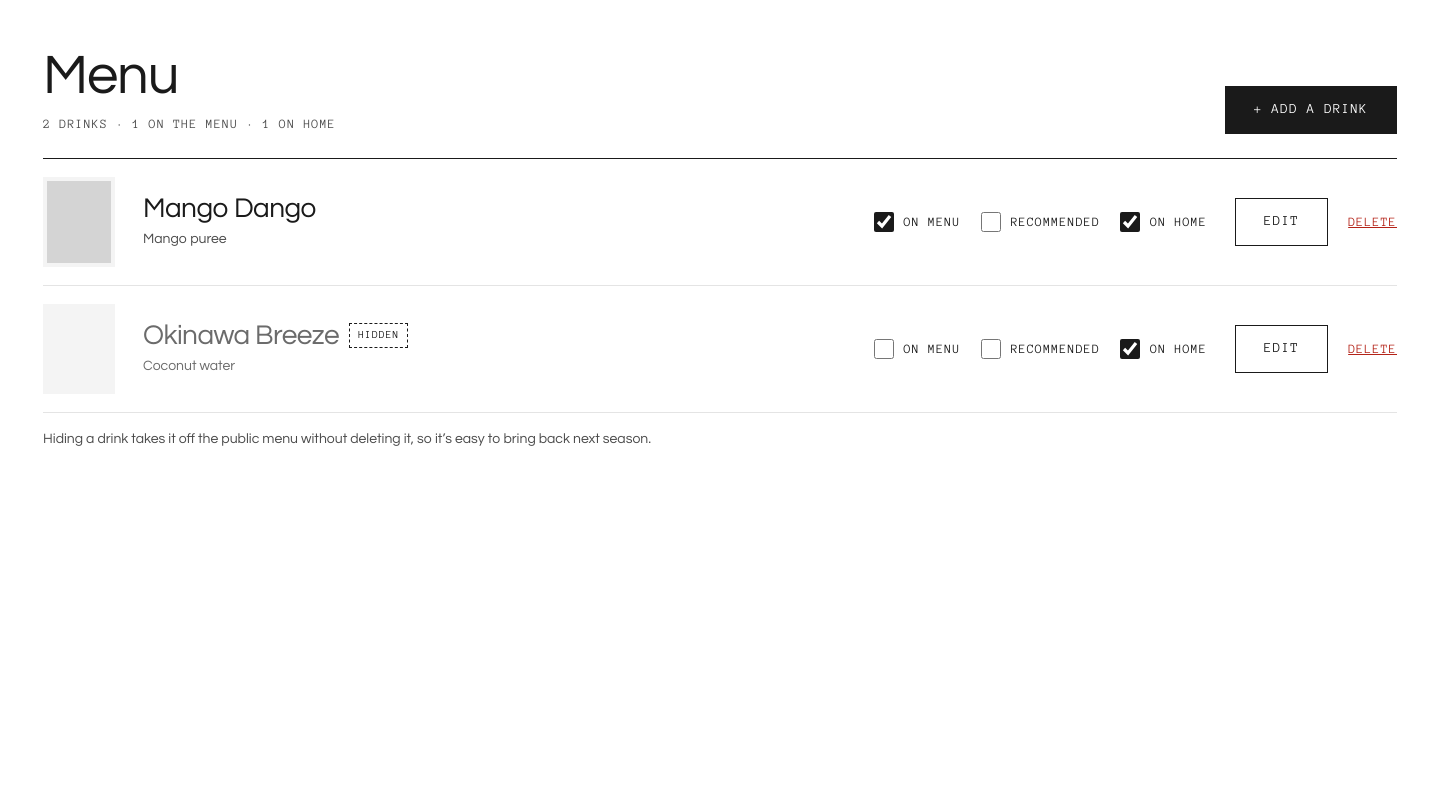
Test: Hide instead hides the drink and is not offered for hidden drinks
This screenshot has width=1440, height=810.
Click the button named "Delete Okinawa Breeze": [1373, 348] box [1348,326,1397,370]
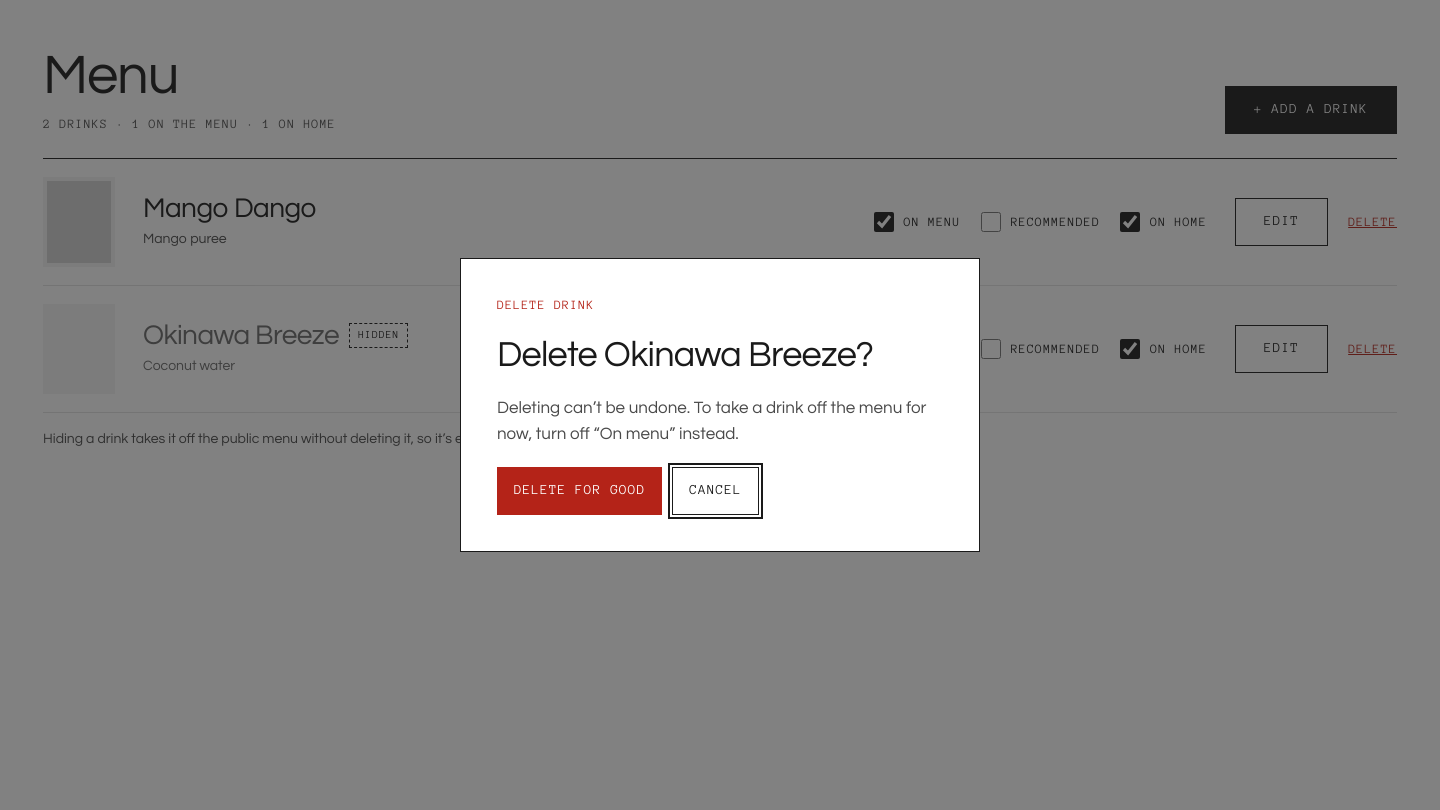
Expected: the button "Hide instead" is not shown
Click the button "Cancel": [716, 491] box [672,467,759,515]
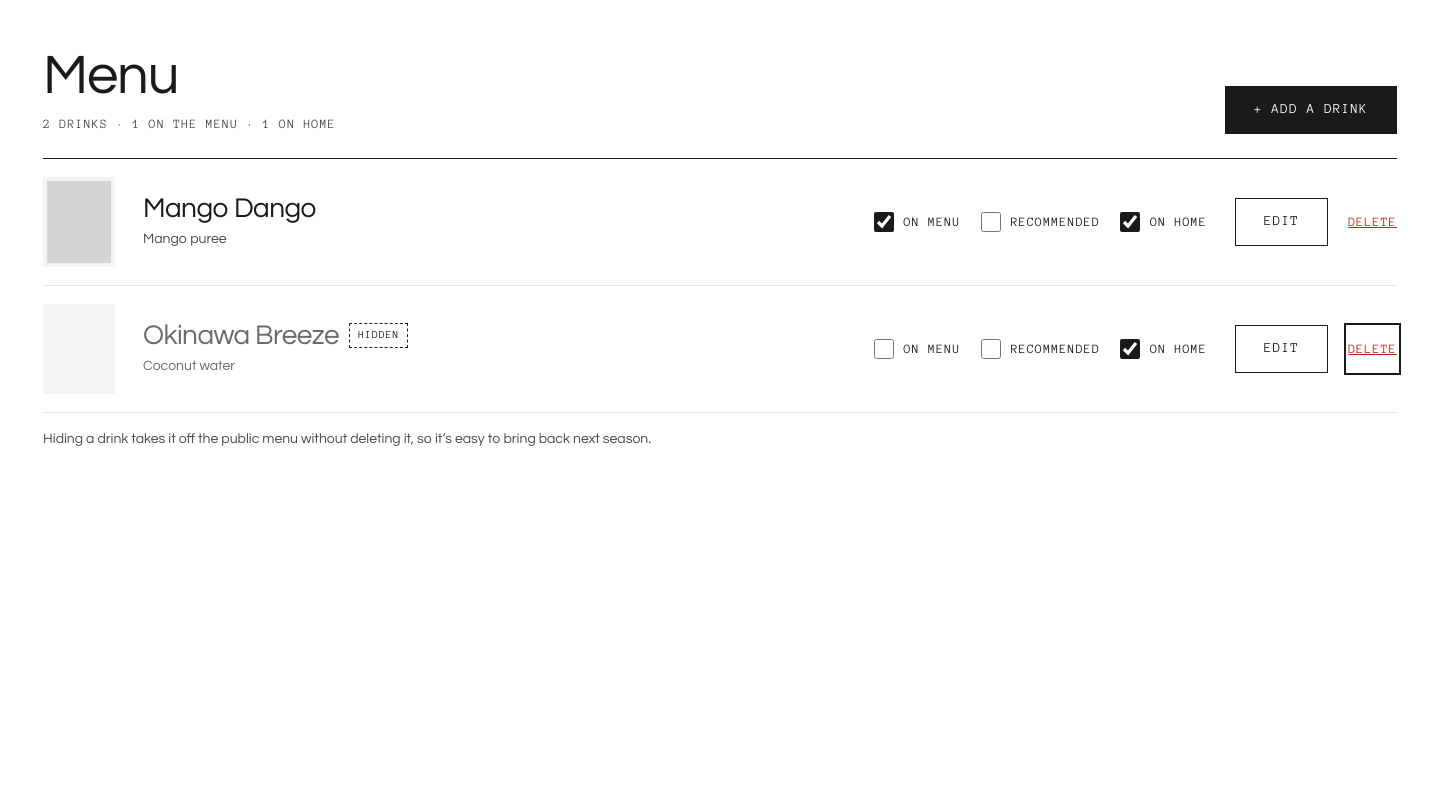
Click the button named "Delete Mango Dango": [1373, 222] box [1348,200,1397,244]
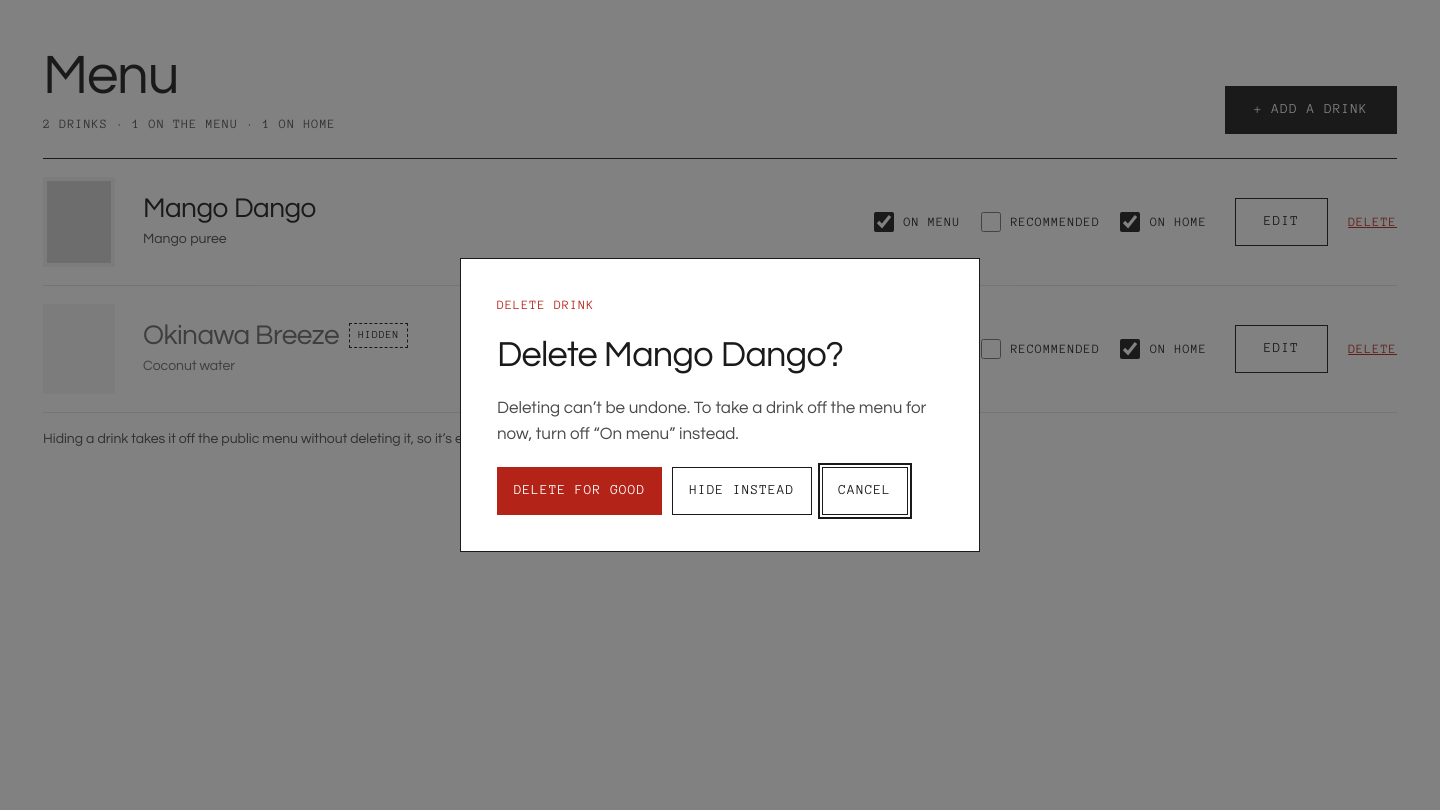
Click the button "Hide instead": [742, 491] box [672,467,812,515]
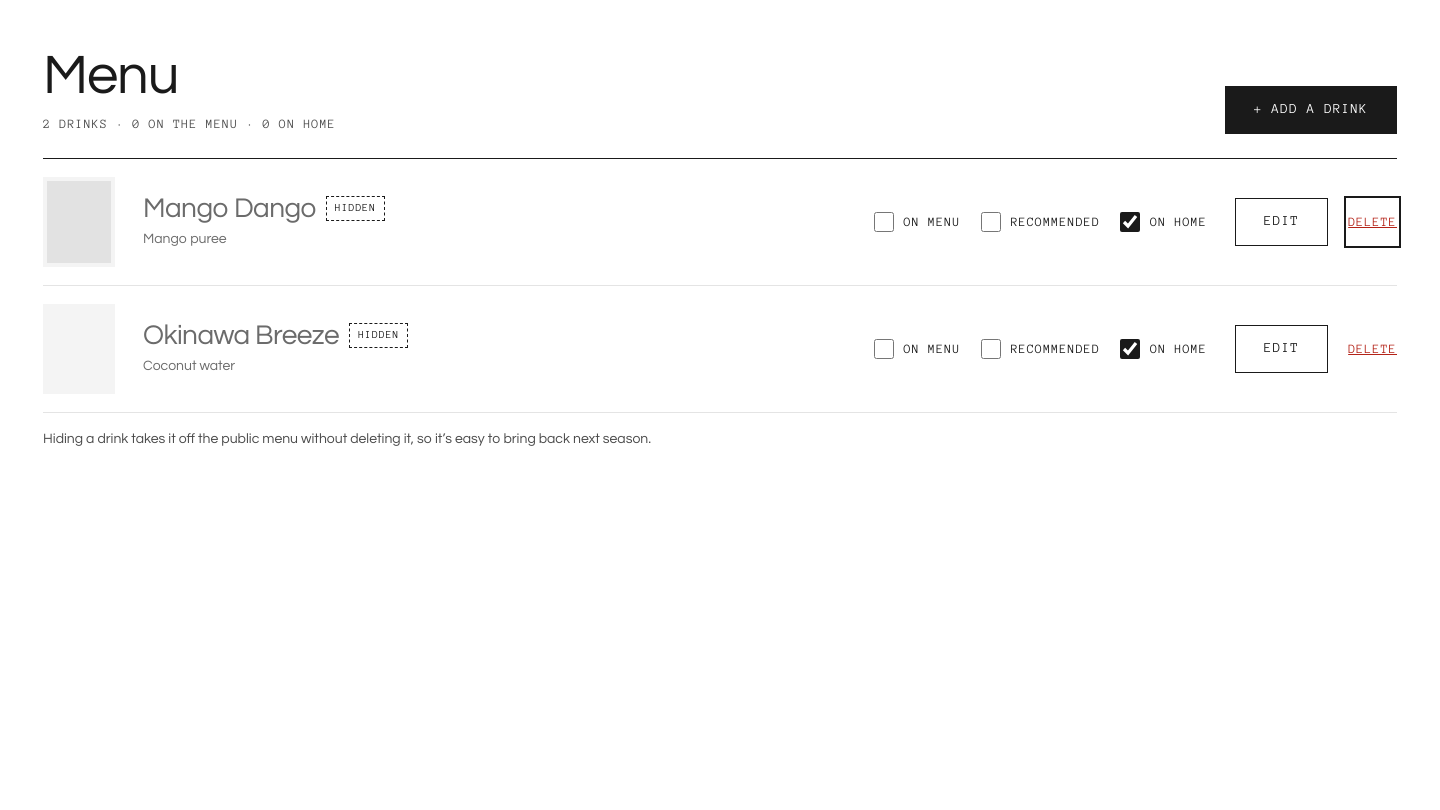
Expected: the dialog is gone
Expected: the checkbox named "On menu: Mango Dango" is not checked, [874,212,894,232]
